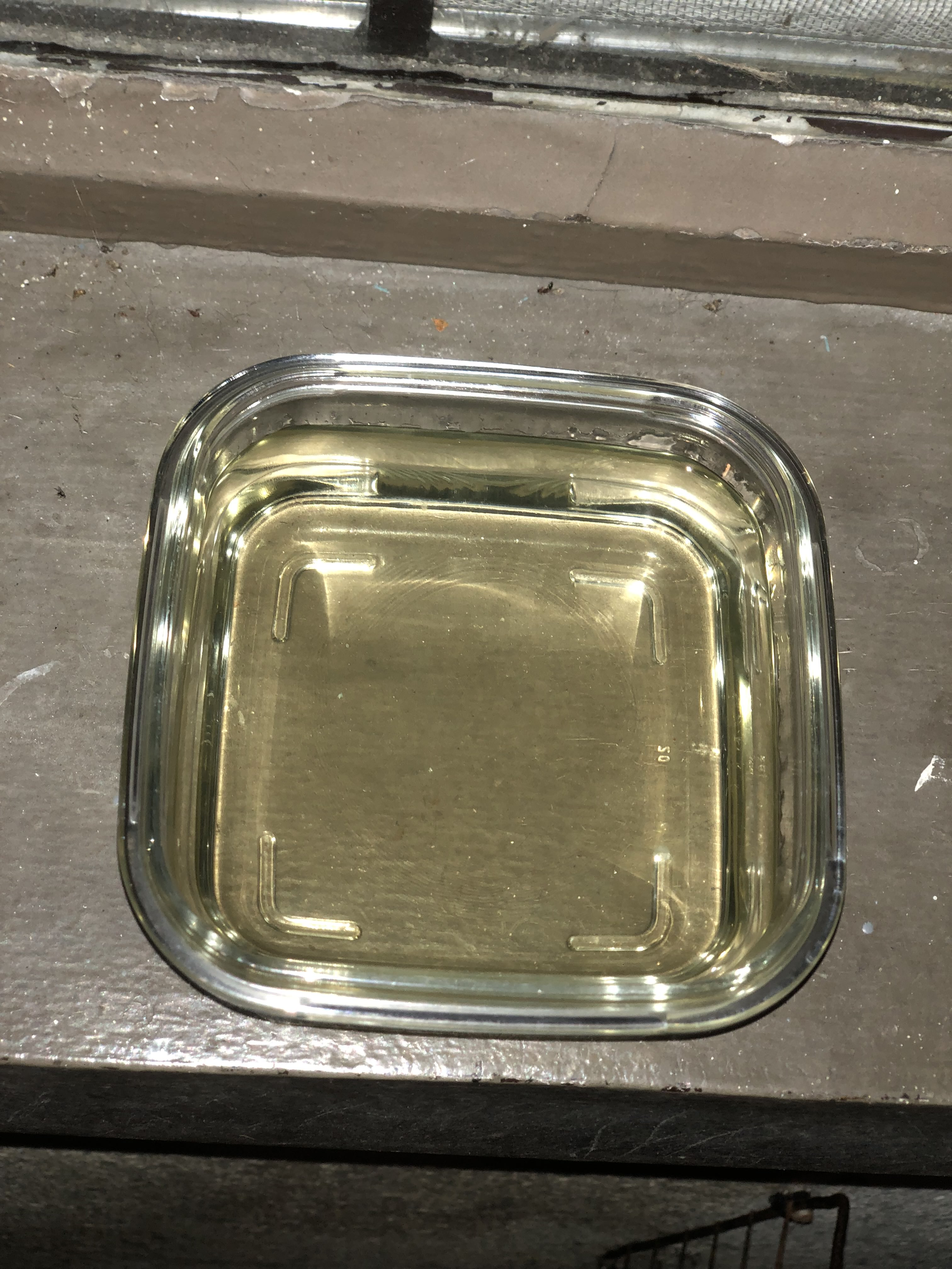reusable: (173, 425, 778, 966)
